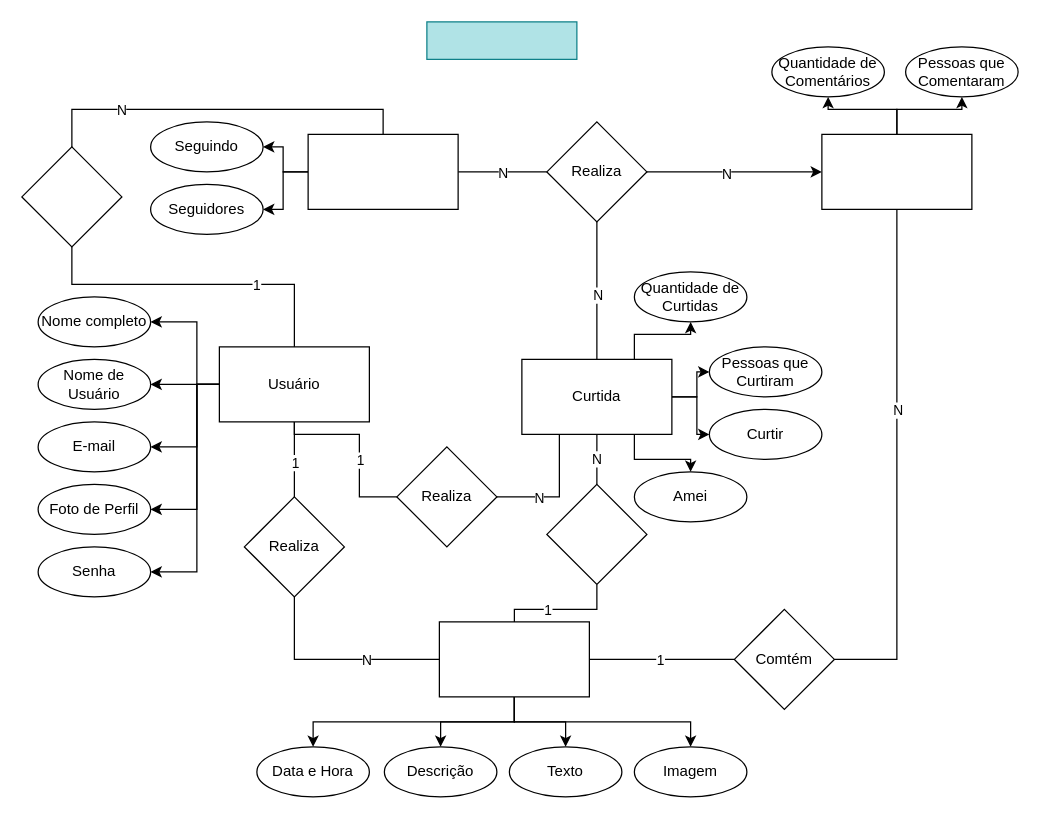
This 1040x819 diagram has some shape labels left out. Each missing label, with the centre of its shape:
Comentário: point 896,171
Contém: point 596,533
DevConnect: point 501,40
Postagem: point 513,659
Seguidor: point 382,171
Tem: point 71,196
